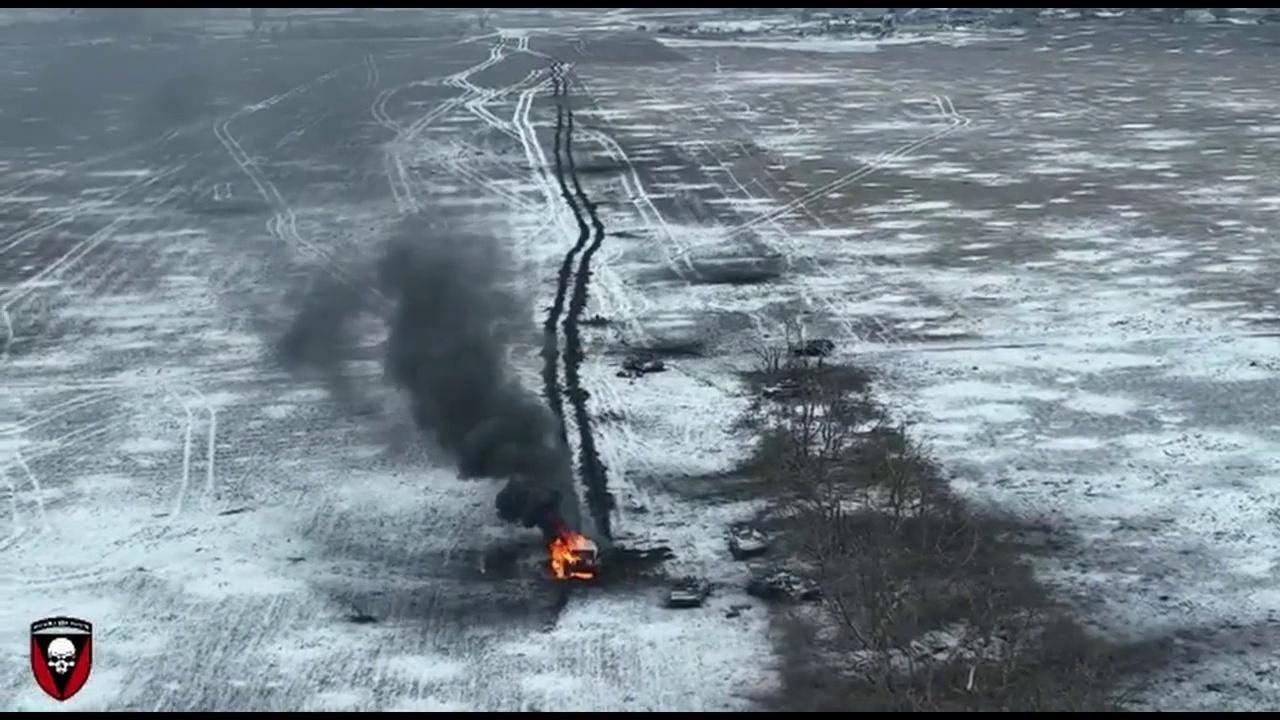vehicle: (750, 568, 825, 604), (666, 571, 710, 607), (728, 524, 769, 561), (561, 546, 599, 584), (762, 380, 806, 398), (625, 355, 661, 376), (794, 338, 833, 356)
